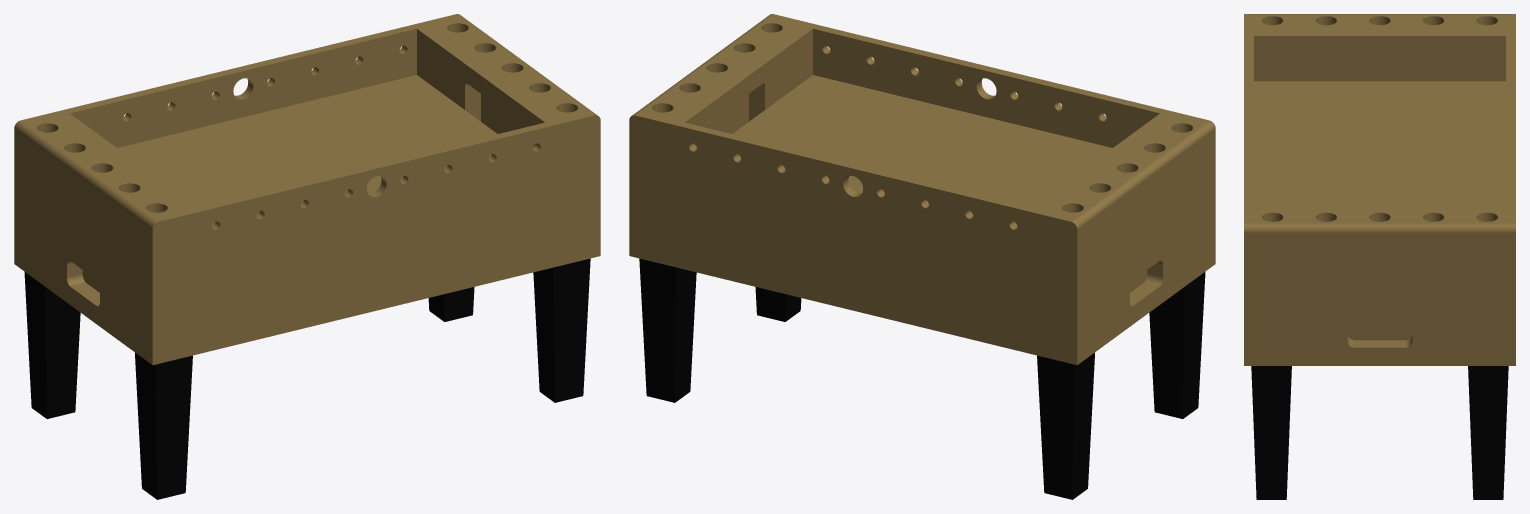
The model's file is table.dae.
3 renders of one model, left to right at view 1: azimuth 30°, elevation 25°; view 2: azimuth 150°, elevation 25°; view 3: azimuth 270°, elevation 25°, orthographic.
Visible parts, largest first — view 1: node; view 2: node; view 3: node.
Boxes of the visible parts, bbox=[...] form: node: bbox=[14, 14, 600, 499]; node: bbox=[629, 14, 1215, 499]; node: bbox=[1244, 14, 1515, 499].
Size of the model in its own units: 1.42 by 0.86 by 0.76.
